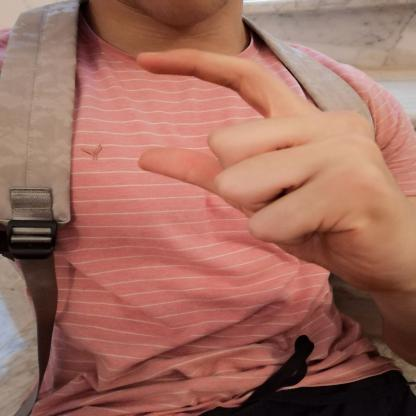DELL: (108, 32, 413, 308)
